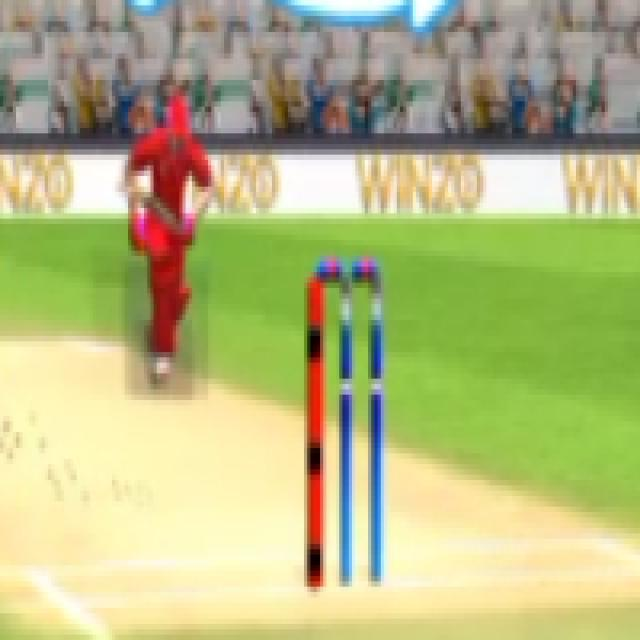stumps: (292, 256, 396, 589)
